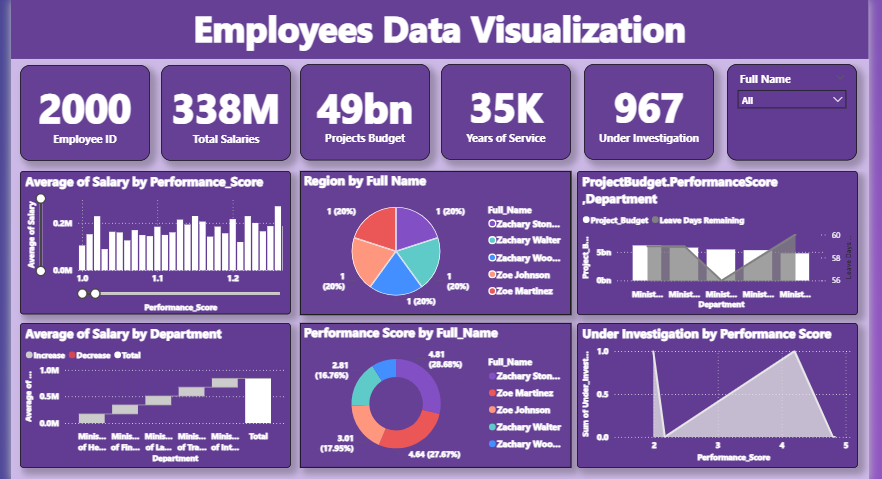

This screenshot's page, from the dashboard's own definition file:
{"tool":"powerbi","page":{"name":"Page 1","canvas":[1280,720],"ordinal":0},"visuals":[{"type":"textbox","box":[0,0,1279.8,88.2],"z":0},{"type":"card","fields":{"Values":["government_employees.Project_Budget"]},"box":[432,95.5,194,144],"z":1000},{"type":"card","fields":{"Values":["government_employees.Salary"]},"box":[223.3,97,194,142.5],"z":2000},{"type":"card","fields":{"Values":["government_employees.Under_Investigation"]},"box":[855.2,95.5,194,142.5],"z":3000},{"type":"card","fields":{"Values":["government_employees.Years_of_Service"]},"box":[642.1,95.5,194,142.5],"z":4000},{"type":"slicer","fields":{"Values":["government_employees.Full_Name"]},"box":[1068.2,95.5,194,144],"z":5000},{"type":"card","fields":{"Values":["government_employees.Employee_ID"]},"box":[13.2,97,194,142.5],"z":6000},{"type":"columnChart","fields":{"Category":["government_employees.Performance_Score"],"Y":["government_employees.Salary"]},"box":[12.9,255.7,404.3,214.3],"z":7000},{"type":"pieChart","title":"Region by Full Name","fields":{"Category":["government_employees.Full_Name"],"Y":["government_employees.Region"]},"box":[430.9,255.5,404.5,214.5],"z":8000},{"type":"waterfallChart","fields":{"Category":["government_employees.Department"],"Y":["government_employees.Salary"]},"box":[12.7,481.8,403.6,216.4],"z":9000},{"type":"lineStackedColumnComboChart","title":"ProjectBudget.PerformanceScore ,Department","fields":{"Category":["government_employees.Department"],"Y":["government_employees.Project_Budget"],"Y2":["government_employees.Leave_Days_Remaining"]},"box":[845.5,255.5,419.1,214.5],"z":10000},{"type":"donutChart","fields":{"Category":["government_employees.Full_Name"],"Y":["government_employees.Performance_Score"]},"box":[431,482,405,216],"z":11000},{"type":"areaChart","title":"Under Investigation by Performance Score","fields":{"Category":["government_employees.Performance_Score"],"Y":["government_employees.Under_Investigation"]},"box":[845,482,419,216],"z":12000}]}

Visuals, with their boxes in screenshot pixels (x1, y1, x2, y2):
textbox: bbox(5, 0, 877, 56)
card - government_employees.Project_Budget: bbox(299, 61, 431, 159)
card - government_employees.Salary: bbox(157, 62, 289, 159)
card - government_employees.Under_Investigation: bbox(588, 61, 720, 158)
card - government_employees.Years_of_Service: bbox(442, 61, 575, 158)
slicer - government_employees.Full_Name: bbox(733, 61, 865, 159)
card - government_employees.Employee_ID: bbox(14, 62, 146, 159)
columnChart - government_employees.Performance_Score x government_employees.Salary: bbox(13, 170, 289, 316)
"Region by Full Name" pieChart: bbox(298, 170, 574, 316)
waterfallChart - government_employees.Department x government_employees.Salary: bbox(13, 324, 288, 471)
"ProjectBudget.PerformanceScore ,Department" lineStackedColumnComboChart: bbox(581, 170, 867, 316)
donutChart - government_employees.Full_Name x government_employees.Performance_Score: bbox(298, 324, 574, 471)
"Under Investigation by Performance Score" areaChart: bbox(581, 324, 866, 471)
